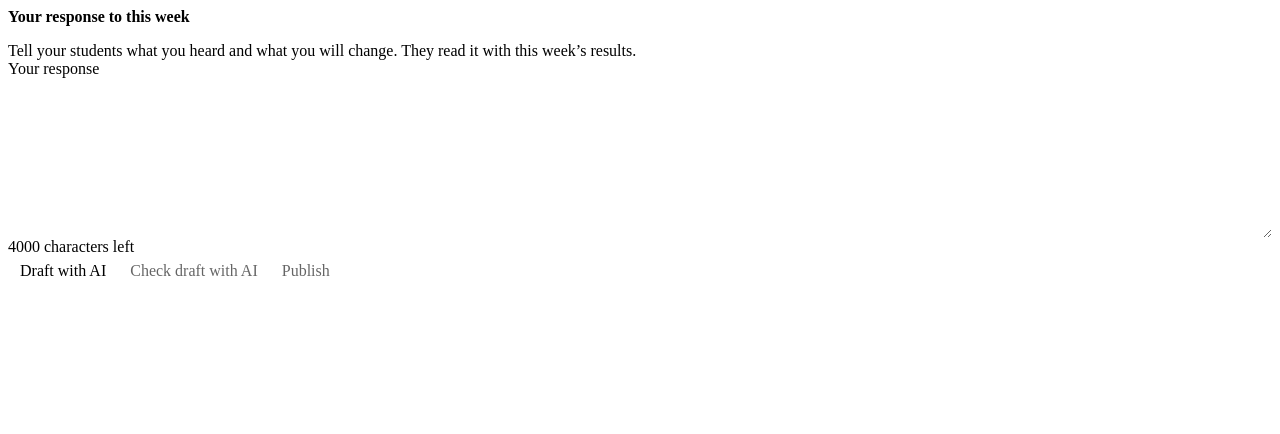
it: nothing posts without the publish button › uses a draft, runs a check and edits without publishing or editing anything
This screenshot has width=1280, height=434.
Click the button "Draft with AI": [63, 271] box [8,256,118,286]
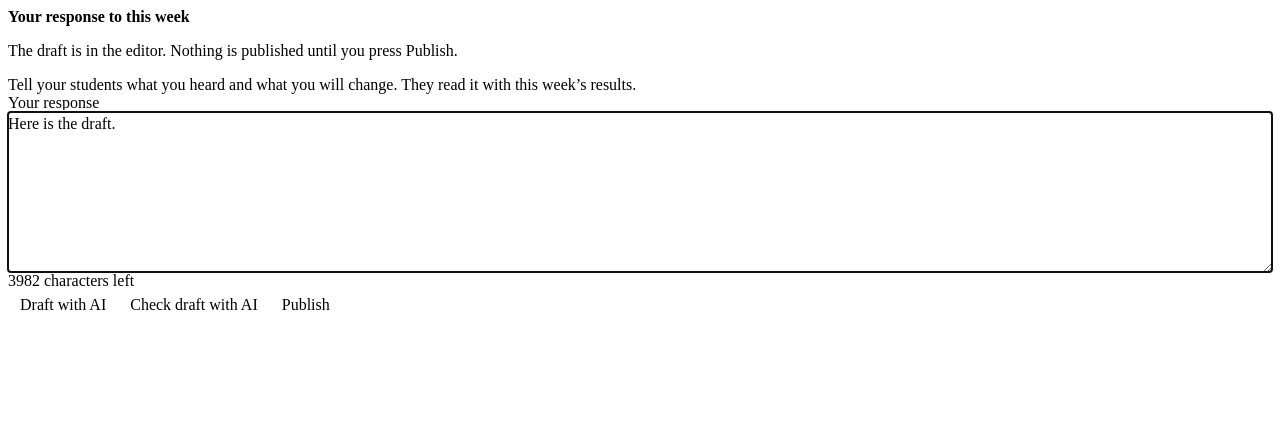
Expected: the text box labelled "Your response" holds "Here is the draft."
Replace the text in the text box labelled "Your response" with "Here is the draft, changed.": [640, 192] box [8,112,1272,272]
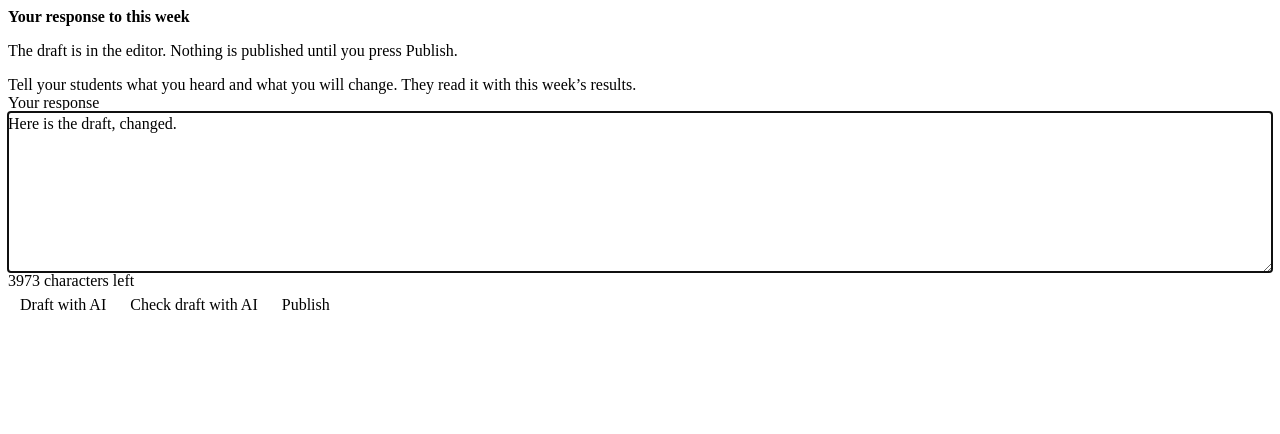
Click the button "Check draft with AI": [194, 305] box [118,290,270,320]
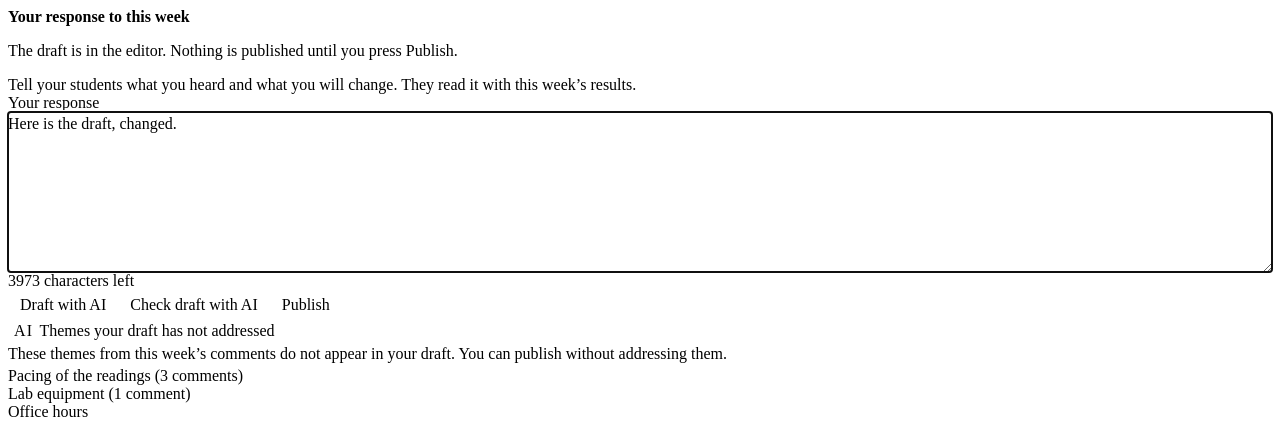
Expected: the list item "Pacing of the readings (3 comments)" is shown, [8,367,243,384]
